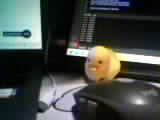duck: (74, 41, 122, 87)
